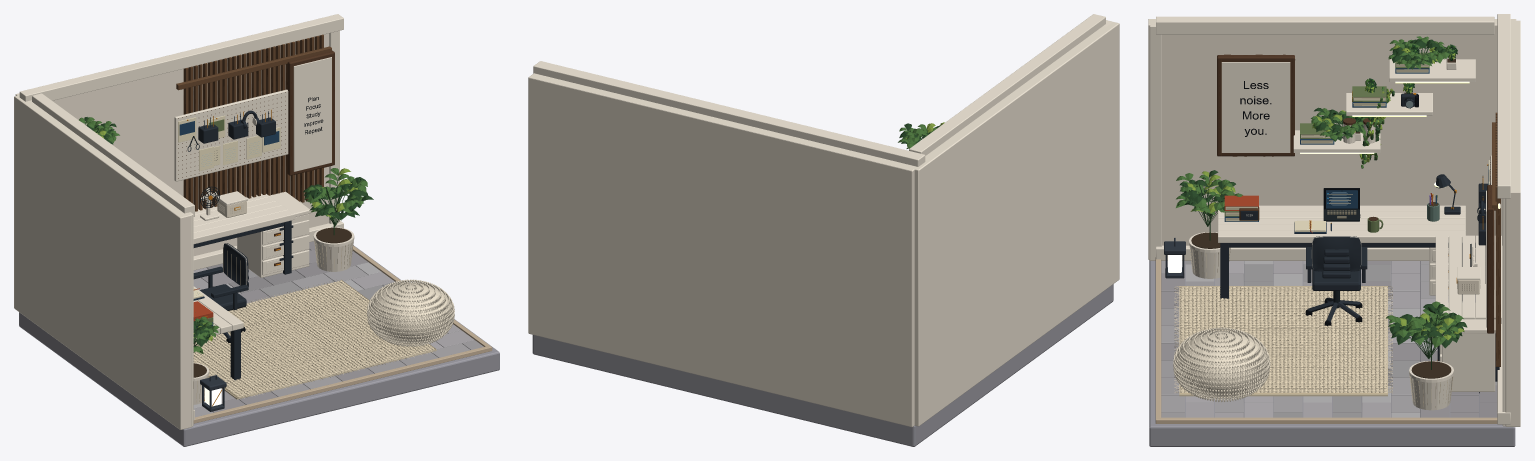
File: minimal-mobile.glb
3 views of the same model, side by side, from view 1: azimuth 30°, elevation 25°; view 2: azimuth 150°, elevation 25°; view 3: azimuth 270°, elevation 25° (orthographic). The views are drawn at different scales.
Parts seen in each view (by area): view 1: asset-architecture, asset-minimal-woven-rug, asset-minimal-pegboard, asset-Focus rhythm print, asset-ivory-lounge-pouf, asset-minimal-L-return, asset-Minimal snake fern, asset-Substantial white pedestal, asset-chair, asset-desk, asset-Minimal floor plant, asset-Minimal desk organizer (+1 smaller); view 2: asset-architecture, asset-Minimal full shelf plant (-1.72, 0.95, 2.35); view 3: asset-architecture, asset-minimal-woven-rug, asset-desk, asset-Minimal focus print, asset-ivory-lounge-pouf, asset-Minimal snake fern, asset-chair, asset-minimal-L-return, asset-Minimal floor plant, asset-Substantial white pedestal, asset-Minimal full shelf plant (-1.72, 0.95, 2.35), asset-Focus rhythm print (+10 smaller).
Part boxes in pixels (x1,y1,x2,y2): asset-architecture: (14, 14, 499, 446); asset-minimal-woven-rug: (193, 279, 436, 399); asset-minimal-pegboard: (174, 89, 288, 181); asset-Focus rhythm print: (287, 50, 334, 175); asset-ivory-lounge-pouf: (367, 279, 454, 346); asset-minimal-L-return: (193, 193, 294, 274); asset-Minimal snake fern: (303, 168, 373, 271); asset-Substantial white pedestal: (237, 191, 310, 277); asset-chair: (193, 243, 248, 342); asset-desk: (193, 286, 243, 380); asset-Minimal floor plant: (193, 312, 218, 404); asset-Minimal desk organizer: (216, 191, 247, 217); asset-architecture: (528, 14, 1119, 446); asset-Minimal full shelf plant (-1.72, 0.95, 2.35): (898, 122, 944, 148); asset-architecture: (1148, 14, 1520, 446); asset-minimal-woven-rug: (1174, 286, 1392, 396); asset-desk: (1218, 205, 1465, 300); asset-Minimal focus print: (1217, 54, 1295, 156); asset-ivory-lounge-pouf: (1173, 327, 1270, 402); asset-Minimal snake fern: (1386, 301, 1467, 410); asset-chair: (1305, 236, 1367, 325); asset-minimal-L-return: (1435, 235, 1501, 381); asset-Minimal floor plant: (1176, 170, 1242, 278); asset-Substantial white pedestal: (1438, 303, 1495, 393); asset-Minimal full shelf plant (-1.72, 0.95, 2.35): (1388, 36, 1453, 69); asset-Focus rhythm print: (1485, 185, 1494, 333).
Size of the model in its own units: 4.31 by 3.04 by 3.9.
